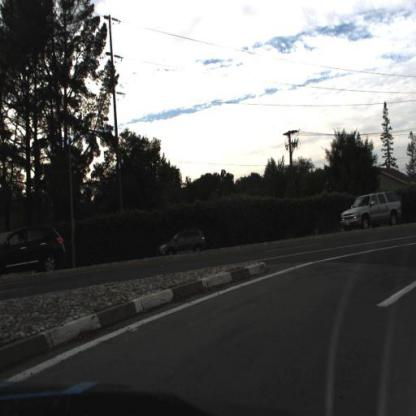car: (1, 225, 68, 276), (340, 188, 405, 235), (155, 229, 209, 260)
